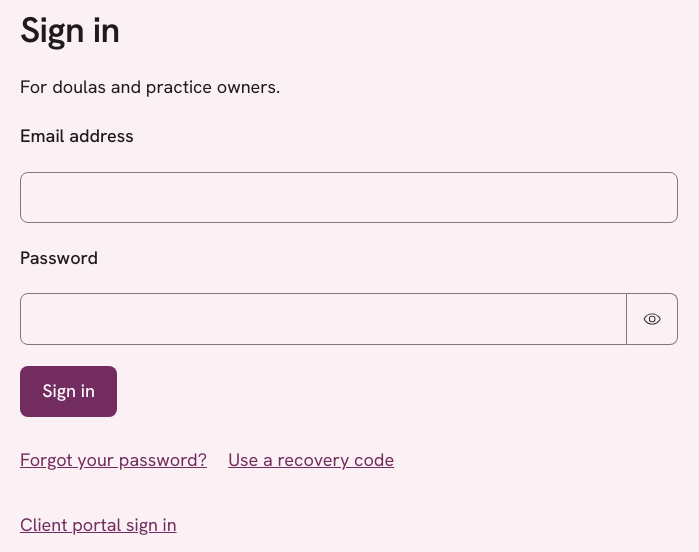
Test: Staff login -- signing in over a live portal session (#610) › shows what continuing costs instead of signing her in
The width and height of the screenshot is (699, 552).
Type "priya@example.com" into the field labelled "Email address" at (349, 197), box x1=20 y1=172 x2=678 y2=223
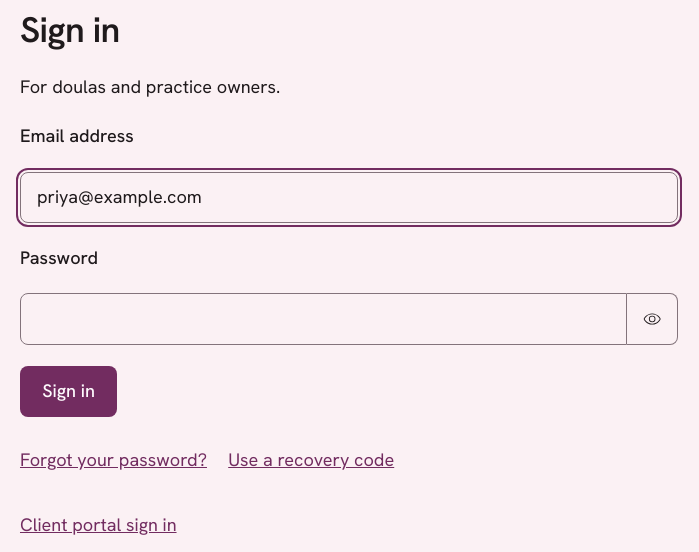
Type "correct horse" into the password field labelled "Password" at (323, 319), box x1=20 y1=293 x2=627 y2=344
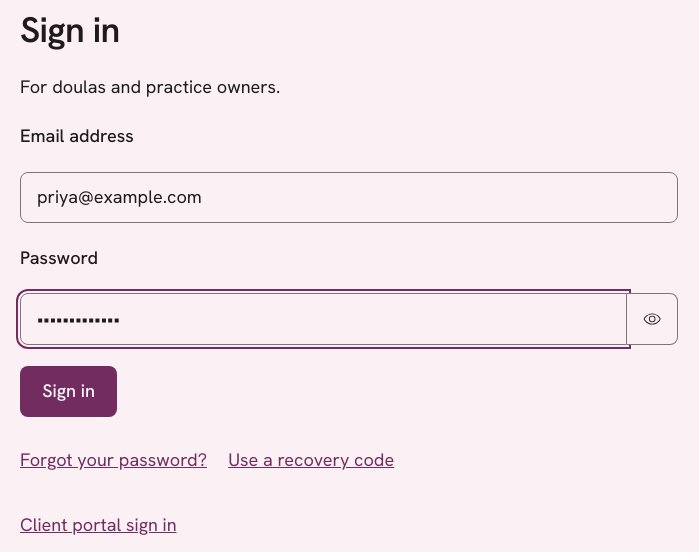
Click the button "Sign in" at (69, 391), box x1=20 y1=366 x2=117 y2=417
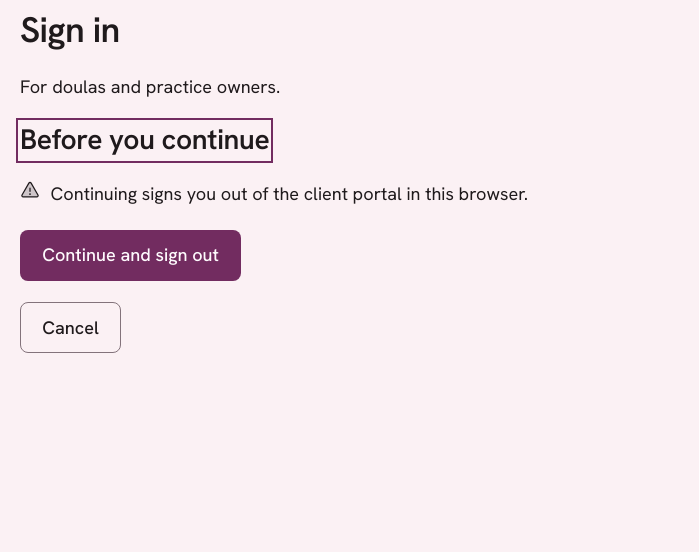
Now the button "Continue and sign out" is shown, box x1=20 y1=230 x2=241 y2=281
